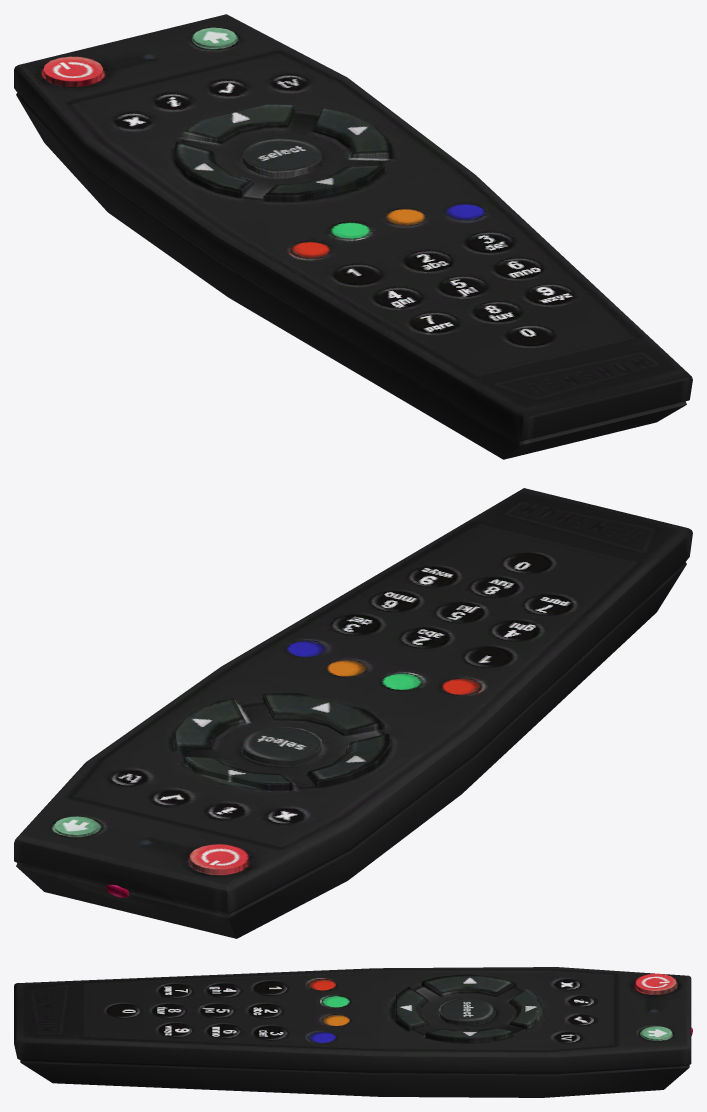
The model's file is TVCONTROLPACK.fbx.
3 renders of one model, top to bottom at view 1: azimuth 30°, elevation 25°; view 2: azimuth 150°, elevation 25°; view 3: azimuth 270°, elevation 25°, orthographic. The views are drawn at different scales.
Parts seen in each view (by area): view 1: Plane; view 2: Plane; view 3: Plane.
Part boxes in pixels (x1,y1,x2,y2): Plane: [14, 14, 692, 459]; Plane: [14, 488, 692, 938]; Plane: [14, 967, 691, 1097].
Size of the model in its own units: 303 by 80.23 by 965.
